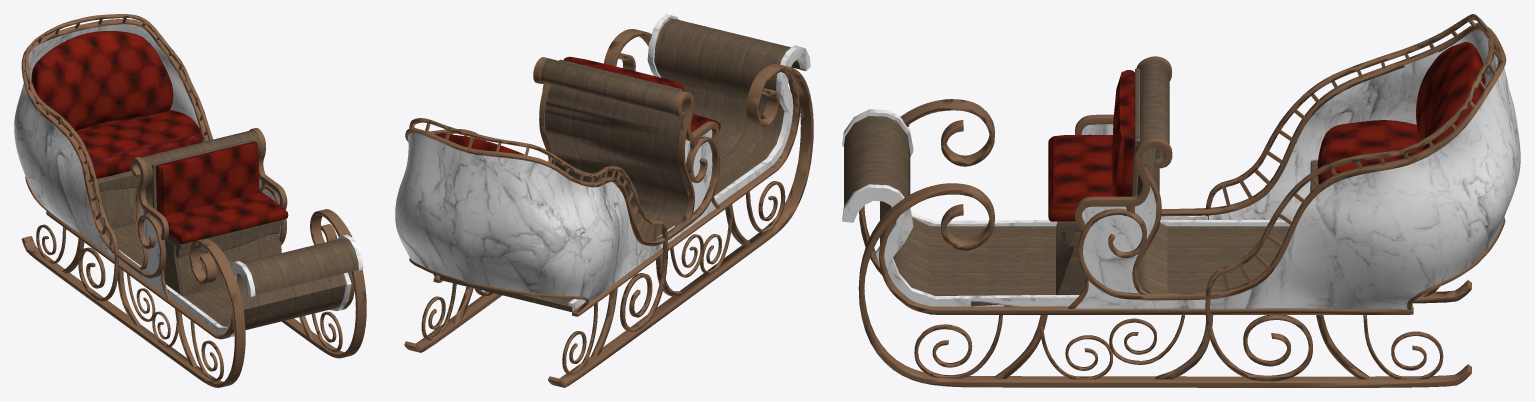
File: traineau.glb
3 views of the same model, side by side, from view 1: azimuth 30°, elevation 25°; view 2: azimuth 150°, elevation 25°; view 3: azimuth 270°, elevation 25° (orthographic). The views are drawn at different scales.
Parts seen in each view (by area): view 1: Christmas Sleigh.Shape_Seats_0, Christmas Sleigh.Shape_Metal_0, Christmas Sleigh.Shape_SeatBase_0, Christmas Sleigh.Shape_Sleigh_0, Christmas Sleigh.Shape_SledSides_0; view 2: Christmas Sleigh.Shape_Sleigh_0, Christmas Sleigh.Shape_SeatBase_0, Christmas Sleigh.Shape_Metal_0, Christmas Sleigh.Shape_SledSides_0, Christmas Sleigh.Shape_Seats_0; view 3: Christmas Sleigh.Shape_Sleigh_0, Christmas Sleigh.Shape_Metal_0, Christmas Sleigh.Shape_SeatBase_0, Christmas Sleigh.Shape_Seats_0, Christmas Sleigh.Shape_SledSides_0.
Boxes of the visible parts, left/top/right/bottom form: Christmas Sleigh.Shape_Seats_0: left=31, top=31, right=288, bottom=244; Christmas Sleigh.Shape_Metal_0: left=21, top=14, right=366, bottom=387; Christmas Sleigh.Shape_SeatBase_0: left=91, top=130, right=358, bottom=330; Christmas Sleigh.Shape_Sleigh_0: left=14, top=24, right=280, bottom=294; Christmas Sleigh.Shape_SledSides_0: left=119, top=234, right=363, bottom=337; Christmas Sleigh.Shape_Sleigh_0: left=395, top=129, right=715, bottom=302; Christmas Sleigh.Shape_SeatBase_0: left=439, top=18, right=804, bottom=312; Christmas Sleigh.Shape_Metal_0: left=404, top=29, right=813, bottom=387; Christmas Sleigh.Shape_SledSides_0: left=568, top=14, right=810, bottom=311; Christmas Sleigh.Shape_Seats_0: left=435, top=56, right=720, bottom=154; Christmas Sleigh.Shape_Sleigh_0: left=1075, top=30, right=1520, bottom=308; Christmas Sleigh.Shape_Metal_0: left=858, top=14, right=1506, bottom=387; Christmas Sleigh.Shape_SeatBase_0: left=844, top=60, right=1412, bottom=306; Christmas Sleigh.Shape_Seats_0: left=1048, top=42, right=1485, bottom=221; Christmas Sleigh.Shape_SledSides_0: left=842, top=109, right=1292, bottom=306.
Bounding box in the file's own units: 1.38 × 1.74 × 3.57.
Materials: 5 (4 with a texture image).
